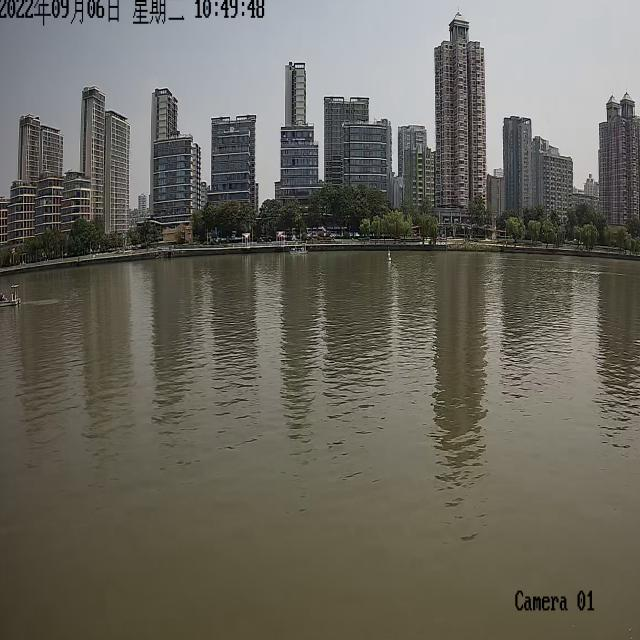ship: (0, 283, 21, 306), (289, 242, 307, 254)
